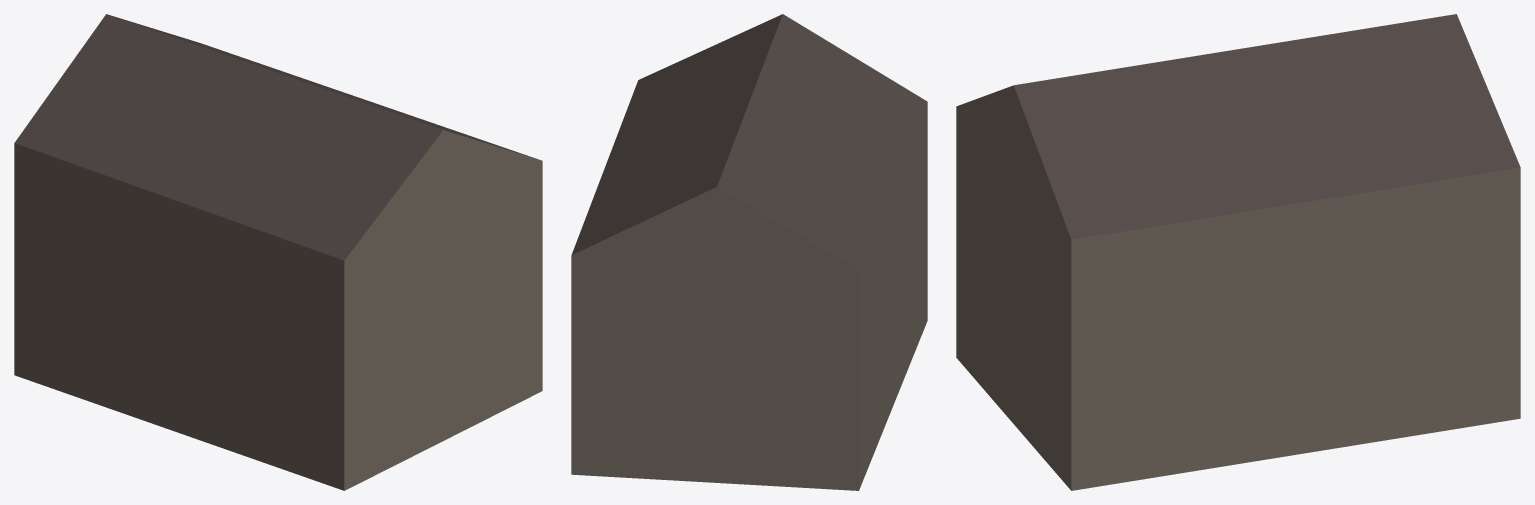
3 renders of one model, left to right at view 1: azimuth 30°, elevation 25°; view 2: azimuth 150°, elevation 25°; view 3: azimuth 270°, elevation 25°, orthographic. The views are drawn at different scales.
Visible parts, largest first — view 1: HP-w1516161978; view 2: HP-w1516161978; view 3: HP-w1516161978.
Part boxes in pixels (<box>): HP-w1516161978: <box>14,14,542,490</box>; HP-w1516161978: <box>571,14,927,490</box>; HP-w1516161978: <box>956,14,1520,490</box>.
Bounding box in the file's own units: 10.36 × 8.1 × 12.23.
